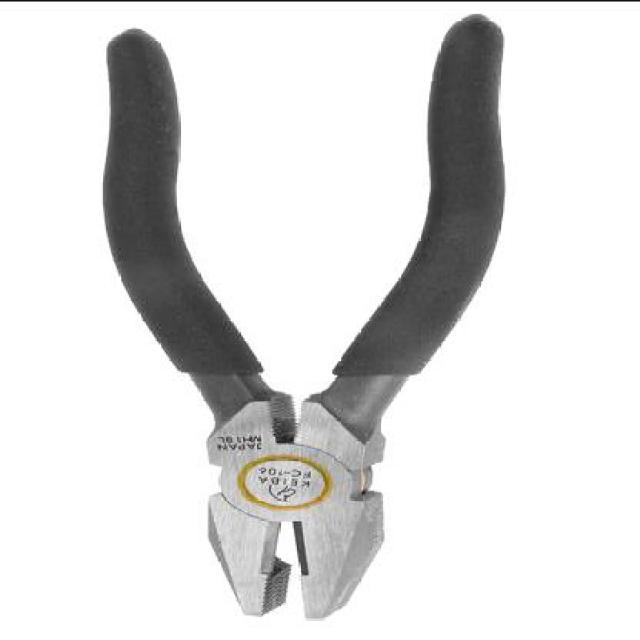pliers: (97, 16, 508, 619)
